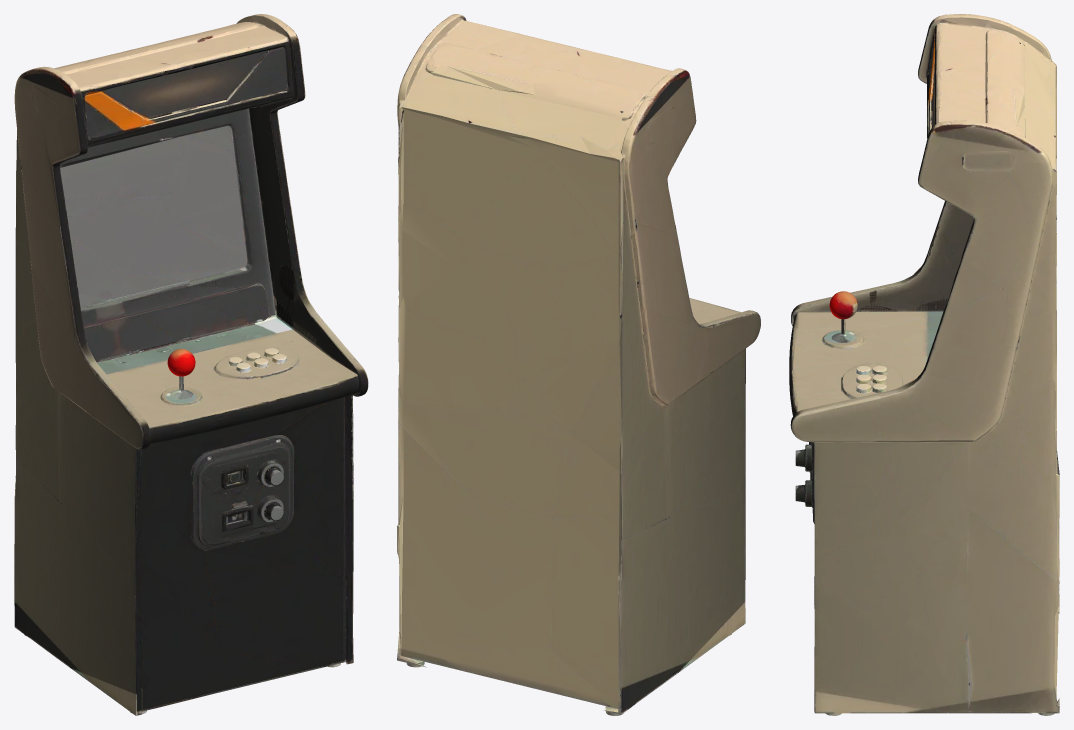
The picture shows the model from 3 angles, left to right: view 1: azimuth 30°, elevation 25°; view 2: azimuth 150°, elevation 25°; view 3: azimuth 270°, elevation 25°; orthographic projection. The views are drawn at different scales.
Bounding box in the file's own units: 0.7621 × 1.9 × 0.7811.
1 material, 1 textured.
